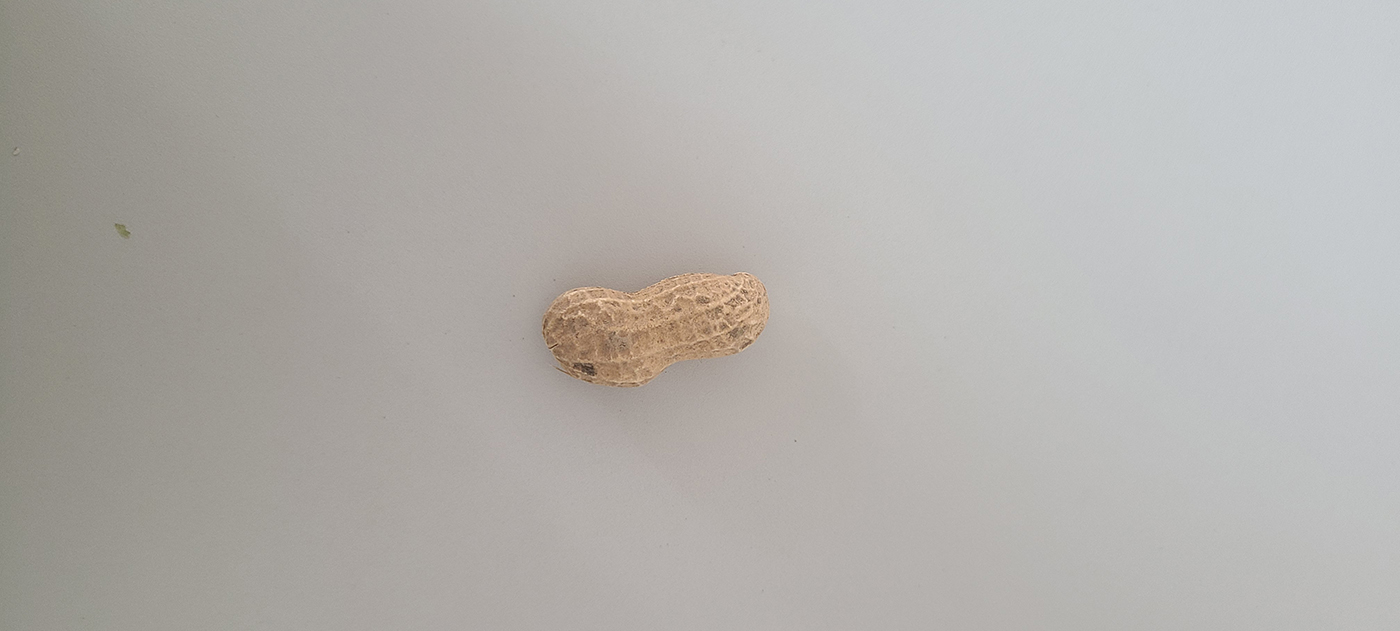h: (541, 267, 771, 389)
